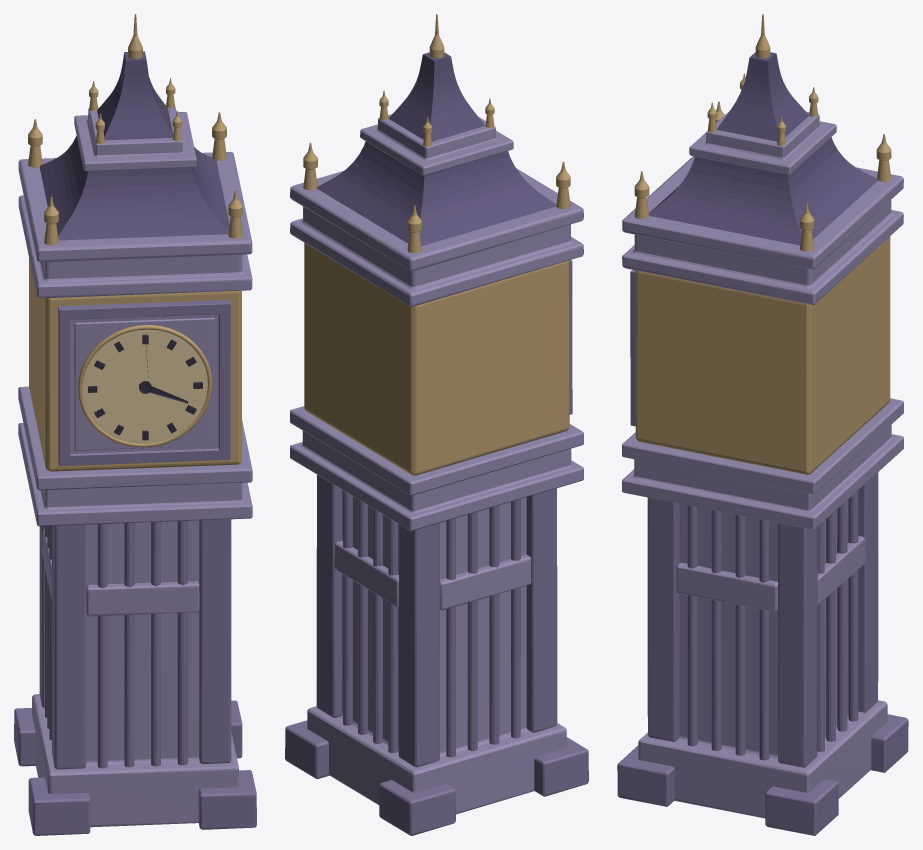
File: torre.glb
The picture shows the model from 3 angles, left to right: view 1: azimuth 30°, elevation 25°; view 2: azimuth 150°, elevation 25°; view 3: azimuth 270°, elevation 25°; orthographic projection.
Parts seen in each view (by area): view 1: torre; view 2: torre; view 3: torre.
Boxes of the visible parts, left/top/right/bottom form: torre: left=14, top=14, right=256, bottom=835; torre: left=285, top=14, right=588, bottom=835; torre: left=617, top=14, right=908, bottom=835.
Size of the model in its own units: 1.29 by 3.72 by 1.29.
